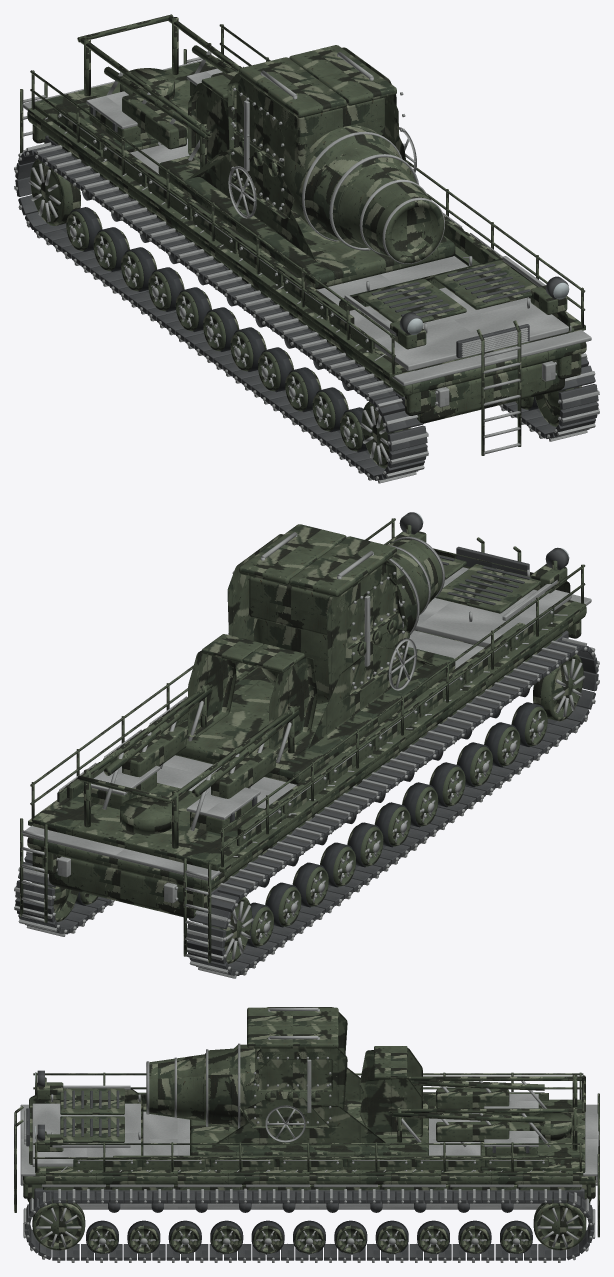
The model's file is tracked-mortar(1).glb.
3 renders of one model, top to bottom at view 1: azimuth 30°, elevation 25°; view 2: azimuth 150°, elevation 25°; view 3: azimuth 270°, elevation 25°, orthographic. The views are drawn at different scales.
Parts seen in each view (by area): view 1: running-gear-panel-shadow-batch, chassis-graphite-painted-steel-batch, cradle-graphite-painted-steel-batch, platform-graphite-painted-steel-batch, barrel-tube-exterior-batch, running-gear-cast-edge-steel-batch, running-gear-graphite-painted-steel-batch, carriage-graphite-painted-steel-batch, mechanisms-graphite-painted-steel-batch, engine-cast-edge-steel-batch, engine-graphite-painted-steel-batch, chassis-cast-edge-steel-batch (+7 smaller); view 2: platform-graphite-painted-steel-batch, running-gear-panel-shadow-batch, cradle-graphite-painted-steel-batch, chassis-graphite-painted-steel-batch, mechanisms-graphite-painted-steel-batch, carriage-graphite-painted-steel-batch, running-gear-cast-edge-steel-batch, running-gear-graphite-painted-steel-batch, chassis-cast-edge-steel-batch, barrel-tube-exterior-batch, running-gear-dark-running-bands-batch, engine-cast-edge-steel-batch (+7 smaller); view 3: chassis-graphite-painted-steel-batch, running-gear-panel-shadow-batch, mechanisms-graphite-painted-steel-batch, platform-graphite-painted-steel-batch, running-gear-graphite-painted-steel-batch, cradle-graphite-painted-steel-batch, chassis-cast-edge-steel-batch, carriage-graphite-painted-steel-batch, barrel-tube-exterior-batch, running-gear-cast-edge-steel-batch, engine-graphite-painted-steel-batch, engine-cast-edge-steel-batch (+7 smaller).
Boxes of the visible parts, x1,y1,x2,y2 form: running-gear-panel-shadow-batch: [15, 145, 598, 480]; chassis-graphite-painted-steel-batch: [27, 66, 586, 423]; cradle-graphite-painted-steel-batch: [227, 45, 406, 218]; platform-graphite-painted-steel-batch: [20, 24, 585, 377]; barrel-tube-exterior-batch: [254, 125, 444, 263]; running-gear-cast-edge-steel-batch: [14, 142, 599, 483]; running-gear-graphite-painted-steel-batch: [30, 159, 581, 468]; carriage-graphite-painted-steel-batch: [158, 149, 455, 289]; mechanisms-graphite-painted-steel-batch: [77, 14, 241, 168]; engine-cast-edge-steel-batch: [344, 256, 571, 454]; engine-graphite-painted-steel-batch: [339, 258, 570, 455]; chassis-cast-edge-steel-batch: [22, 60, 591, 407]; platform-graphite-painted-steel-batch: [20, 518, 585, 962]; running-gear-panel-shadow-batch: [15, 640, 598, 975]; cradle-graphite-painted-steel-batch: [227, 524, 410, 702]; chassis-graphite-painted-steel-batch: [27, 607, 586, 918]; mechanisms-graphite-painted-steel-batch: [77, 634, 317, 848]; carriage-graphite-painted-steel-batch: [175, 646, 455, 784]; running-gear-cast-edge-steel-batch: [14, 637, 599, 978]; running-gear-graphite-painted-steel-batch: [32, 654, 583, 963]; chassis-cast-edge-steel-batch: [23, 594, 591, 903]; barrel-tube-exterior-batch: [253, 538, 442, 703]; running-gear-dark-running-bands-batch: [75, 702, 544, 947]; engine-cast-edge-steel-batch: [414, 567, 571, 646]; chassis-graphite-painted-steel-batch: [23, 1092, 595, 1202]; running-gear-panel-shadow-batch: [24, 1191, 594, 1260]; mechanisms-graphite-painted-steel-batch: [359, 1046, 585, 1150]; platform-graphite-painted-steel-batch: [33, 1072, 599, 1237]; running-gear-graphite-painted-steel-batch: [32, 1198, 586, 1253]; cradle-graphite-painted-steel-batch: [239, 1007, 347, 1128]; chassis-cast-edge-steel-batch: [20, 1092, 599, 1209]; carriage-graphite-painted-steel-batch: [190, 1067, 428, 1155]; barrel-tube-exterior-batch: [146, 1044, 316, 1129]; running-gear-cast-edge-steel-batch: [23, 1188, 595, 1262]; engine-graphite-painted-steel-batch: [14, 1077, 143, 1212]; engine-cast-edge-steel-batch: [14, 1085, 140, 1210].
Size of the model in its own units: 3.69 by 4.49 by 11.77.
6 materials, 6 textured.
